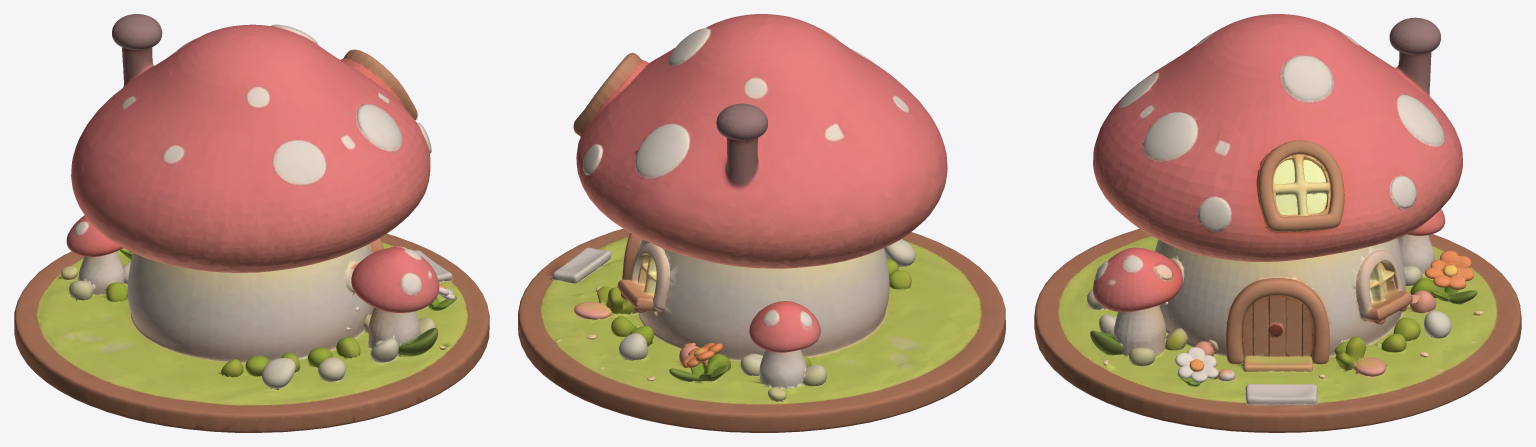
Rendered from struct_house.glb.
The picture shows the model from 3 angles, left to right: view 1: azimuth 30°, elevation 25°; view 2: azimuth 150°, elevation 25°; view 3: azimuth 270°, elevation 25°; orthographic projection. The views are drawn at different scales.
Visible parts, largest first — view 1: tripo_node_93b17579-7197-4492-882a-09476fcdbb94; view 2: tripo_node_93b17579-7197-4492-882a-09476fcdbb94; view 3: tripo_node_93b17579-7197-4492-882a-09476fcdbb94.
Boxes of the visible parts, box(x1,y1,x2,y2) form: tripo_node_93b17579-7197-4492-882a-09476fcdbb94: box(14, 14, 489, 432); tripo_node_93b17579-7197-4492-882a-09476fcdbb94: box(518, 14, 1005, 432); tripo_node_93b17579-7197-4492-882a-09476fcdbb94: box(1034, 14, 1521, 432).
Bounding box in the file's own units: 1 × 0.6934 × 0.9999.
Materials: 1 (1 with a texture image).
